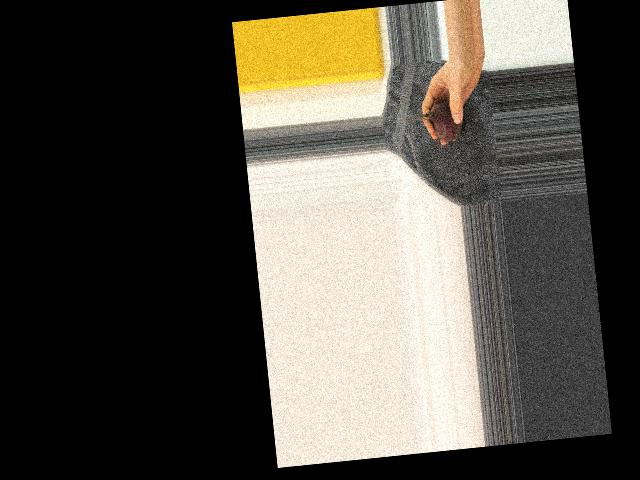beet: (403, 99, 468, 146)
